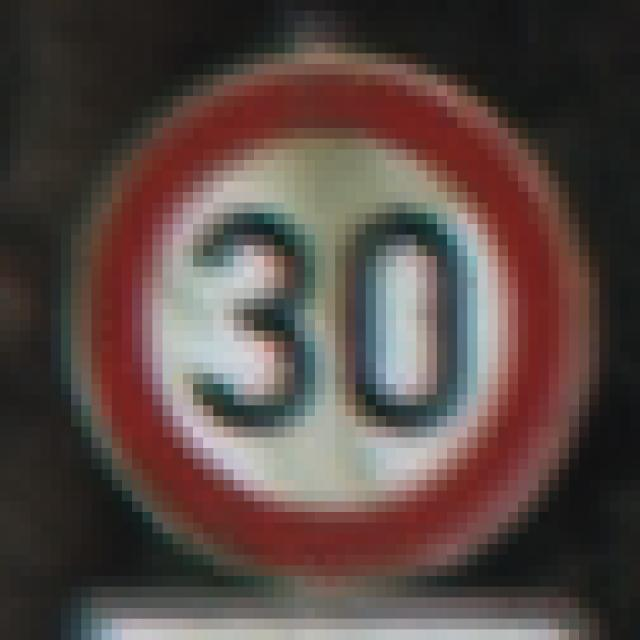Speed Limit -30-: (56, 48, 584, 581)
